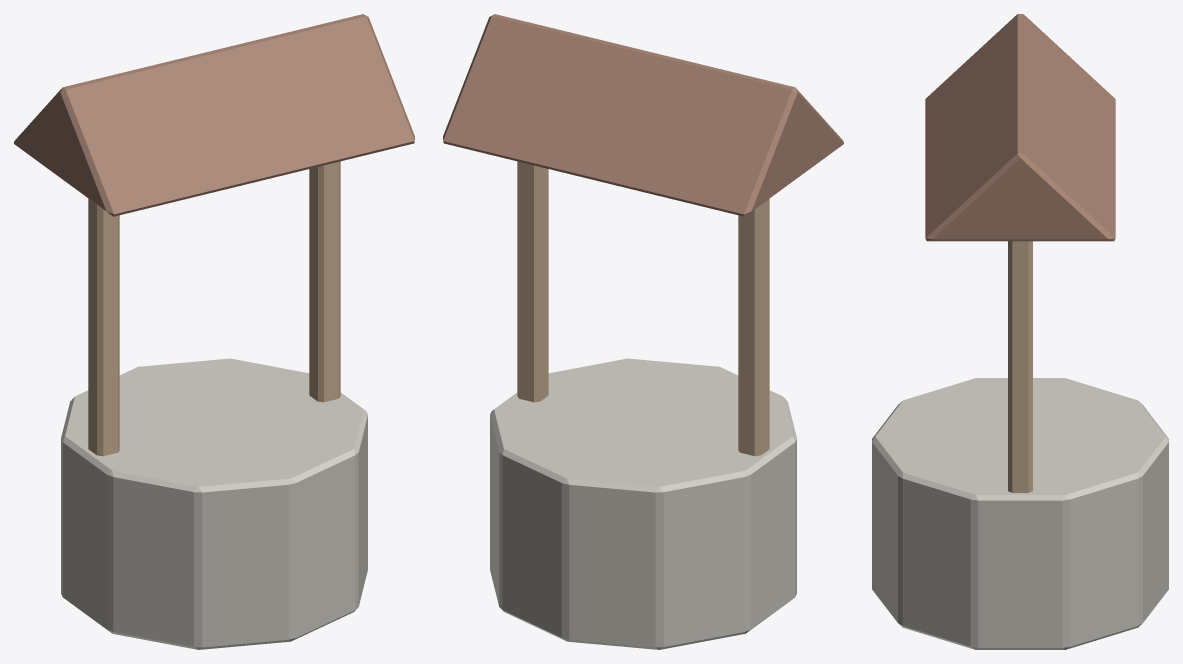
The model's file is well.glb.
The picture shows the model from 3 angles, left to right: view 1: azimuth 30°, elevation 25°; view 2: azimuth 150°, elevation 25°; view 3: azimuth 270°, elevation 25°; orthographic projection. The views are drawn at different scales.
Parts seen in each view (by area): view 1: ring, roof, post1, post2; view 2: ring, roof, post1, post2; view 3: ring, roof, post2.
Boxes of the visible parts, x1=… form: ring: x1=61, y1=358, x2=367, y2=649; roof: x1=14, y1=14, x2=414, y2=216; post1: x1=88, y1=198, x2=119, y2=456; post2: x1=309, y1=161, x2=340, y2=402; ring: x1=490, y1=358, x2=796, y2=649; roof: x1=443, y1=14, x2=843, y2=216; post1: x1=738, y1=198, x2=769, y2=456; post2: x1=517, y1=161, x2=548, y2=402; ring: x1=872, y1=378, x2=1168, y2=649; roof: x1=925, y1=14, x2=1115, y2=241; post2: x1=1008, y1=241, x2=1032, y2=492.
Bounding box in the file's own units: 0.95 × 1.57 × 0.8326.
